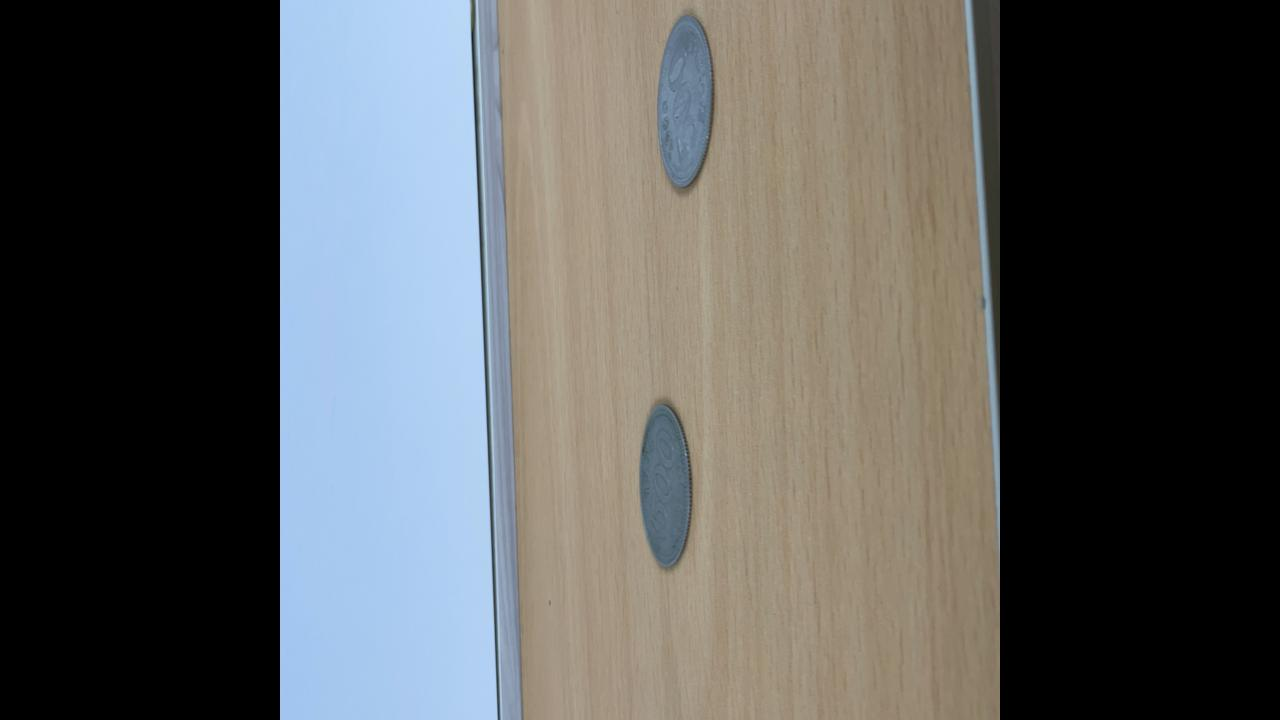coin: (654, 9, 716, 193), (639, 398, 694, 570)
